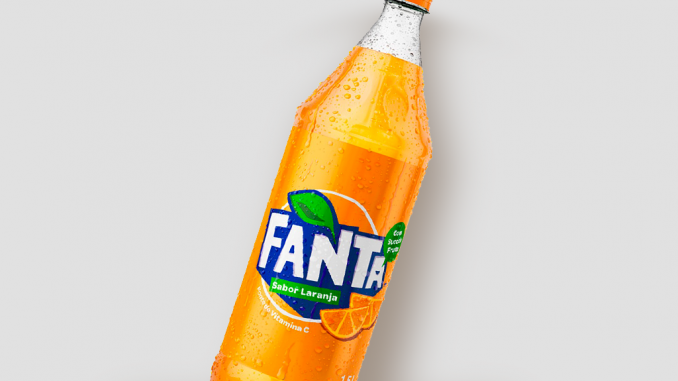Fanta: (212, 2, 474, 381)
